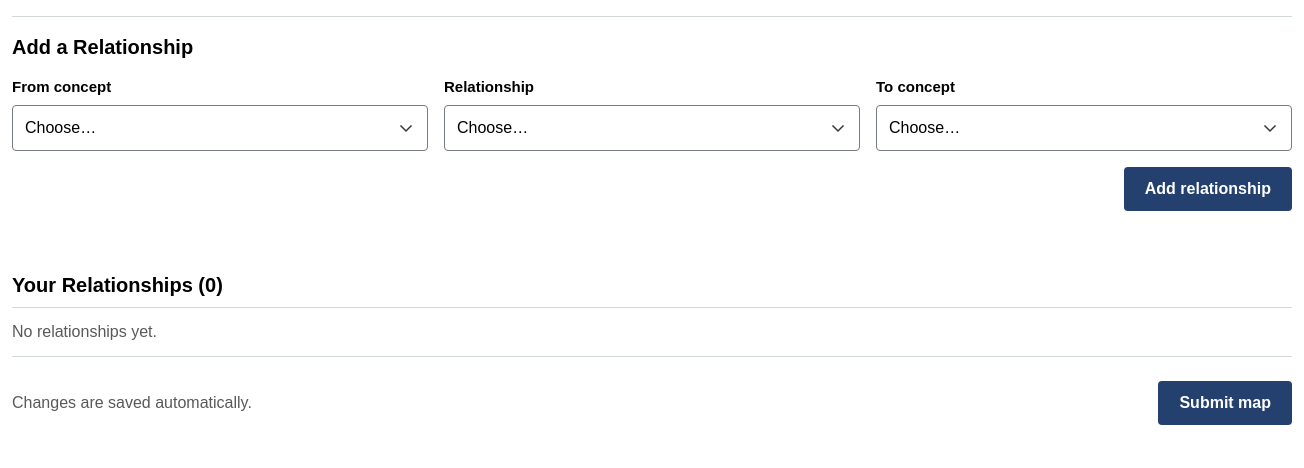
ConceptMapEditor (keyboard path) › autosaves after a pause and reports the save state politely
Select "Alpha" in the dropdown labelled "From concept": coordinates (220, 128) x1=12 y1=105 x2=428 y2=151
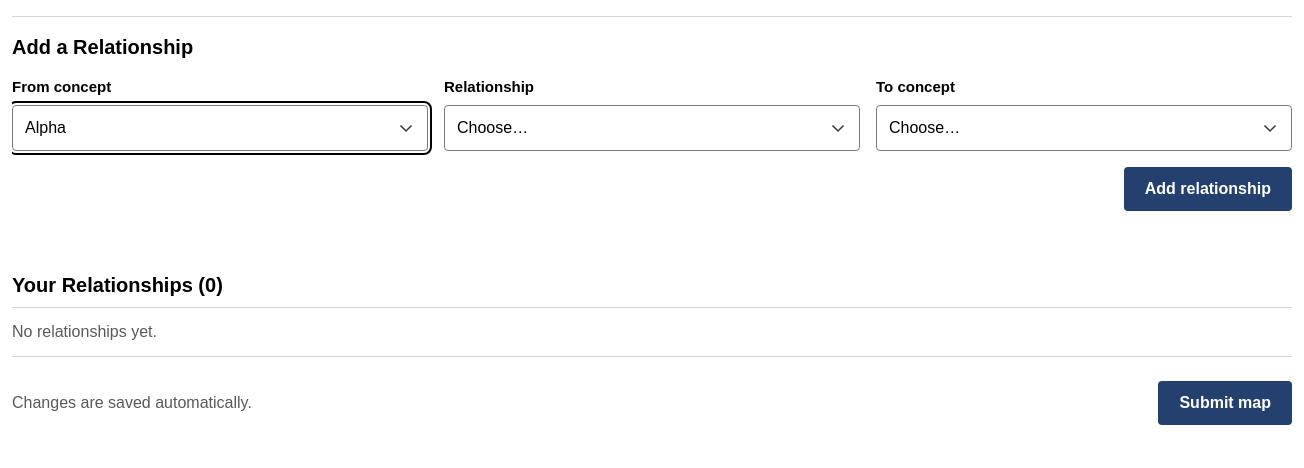
Select "uses" in the dropdown labelled "Relationship": coordinates (652, 128) x1=444 y1=105 x2=860 y2=151
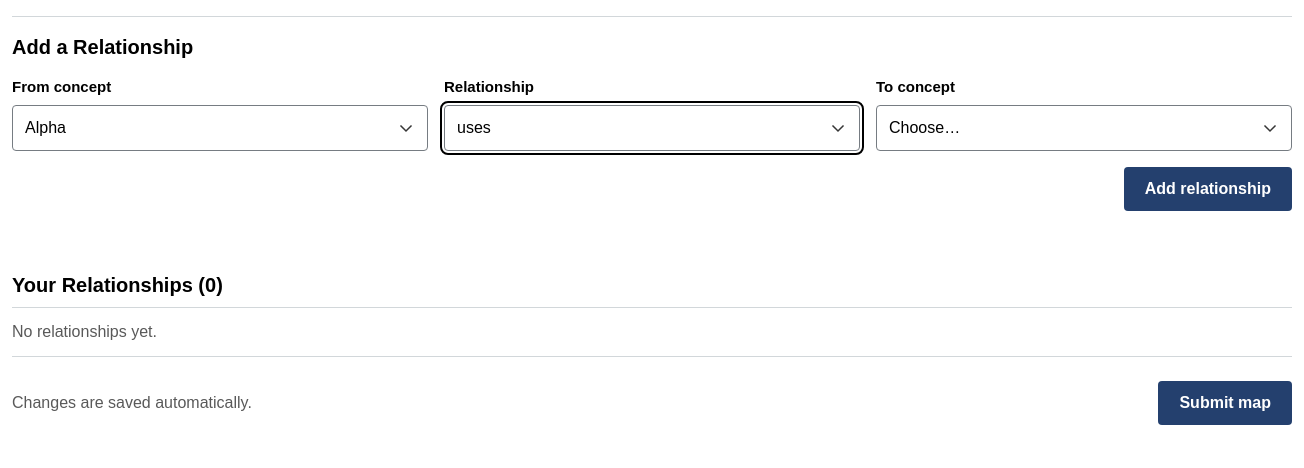
Select "Gamma" in the dropdown labelled "To concept": coordinates (1084, 128) x1=876 y1=105 x2=1292 y2=151
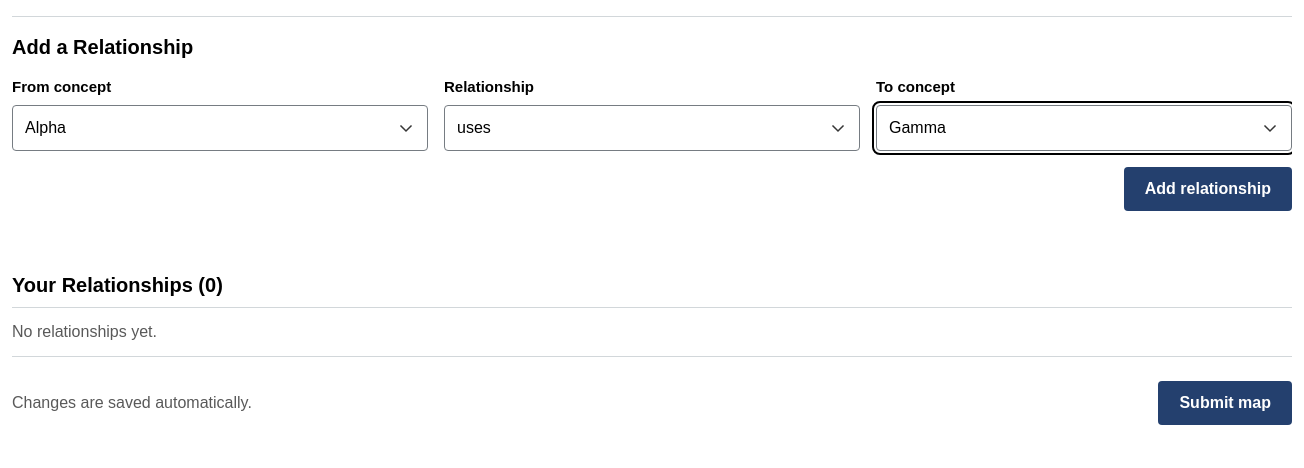
Click the button "Add relationship": coordinates (1208, 189) x1=1124 y1=167 x2=1292 y2=211
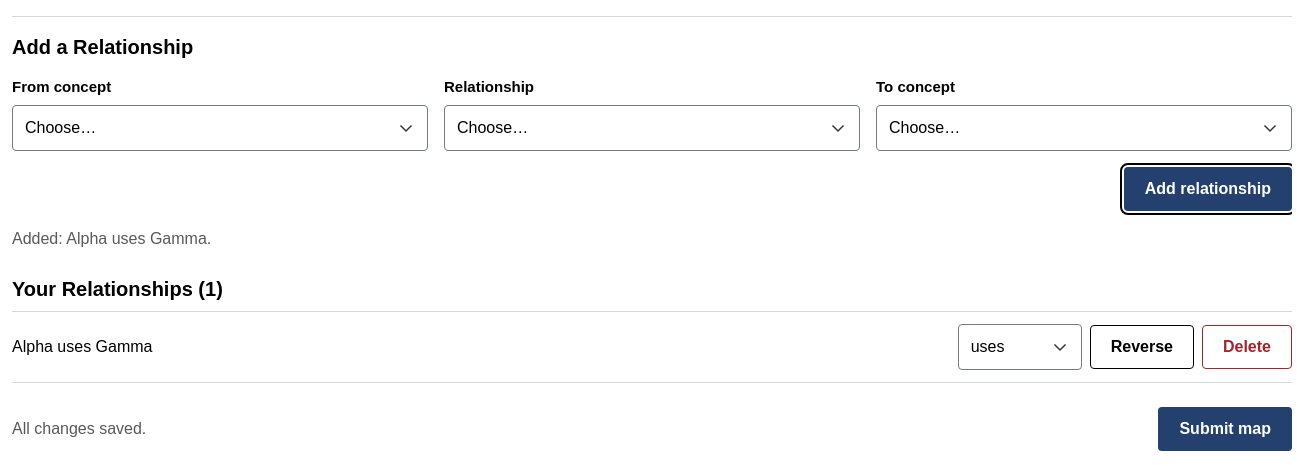
Check: the text "All changes saved." is shown, box x1=12 y1=417 x2=146 y2=441
